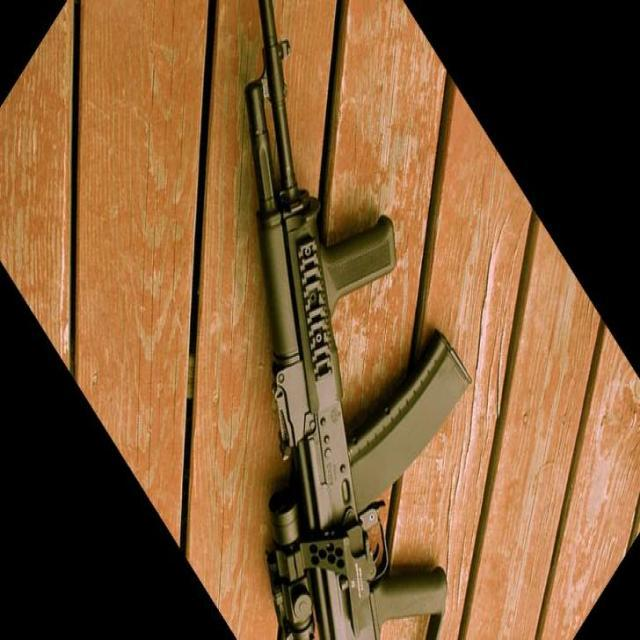weapon: (245, 0, 474, 640)
